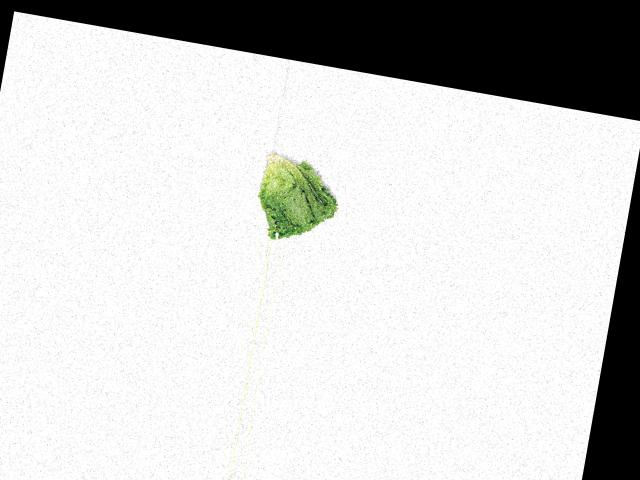lettuce: (244, 147, 352, 250)
